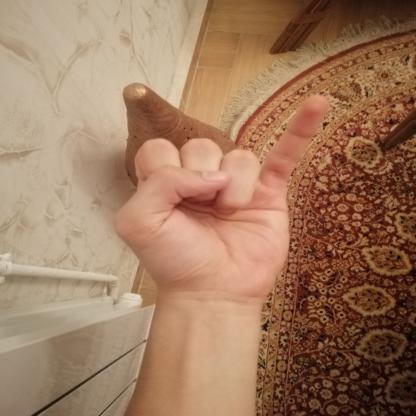MEEM: (92, 81, 352, 316)
